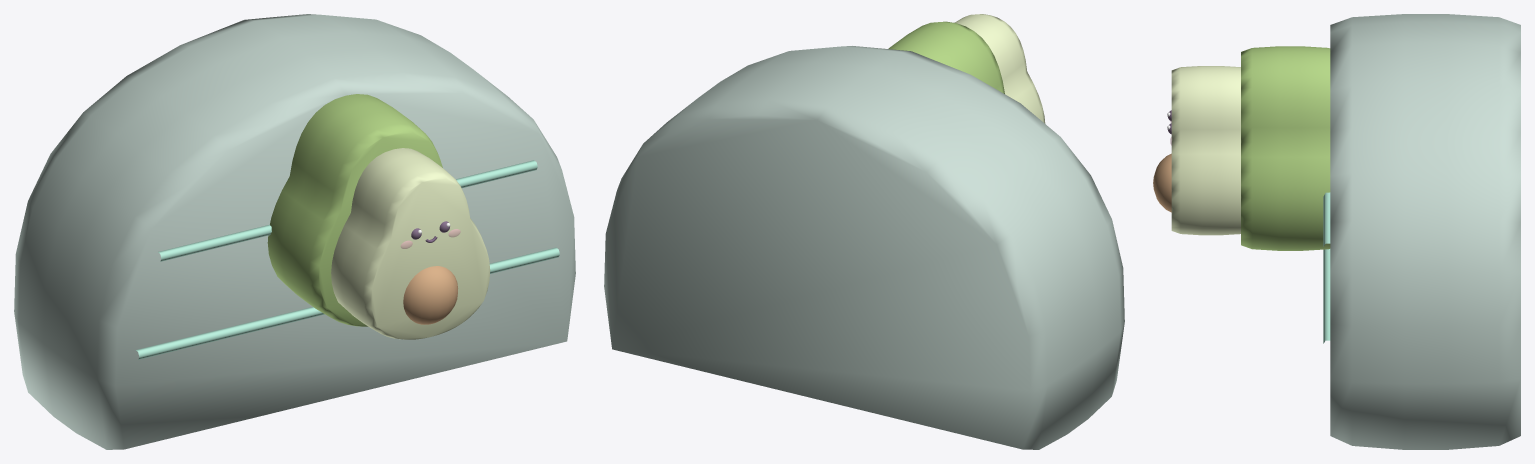
File: decor_5_mint.glb
3 renders of one model, left to right at view 1: azimuth 30°, elevation 25°; view 2: azimuth 150°, elevation 25°; view 3: azimuth 270°, elevation 25°, orthographic. The views are drawn at different scales.
Visible parts, largest first — view 1: decor_5_mint; view 2: decor_5_mint; view 3: decor_5_mint.
Boxes of the visible parts, box(x1,y1,x2,y2) form: decor_5_mint: box(14, 14, 575, 449); decor_5_mint: box(604, 14, 1124, 449); decor_5_mint: box(1153, 14, 1520, 449).
Size of the model in its own units: 8.68 by 5.57 by 6.15.
